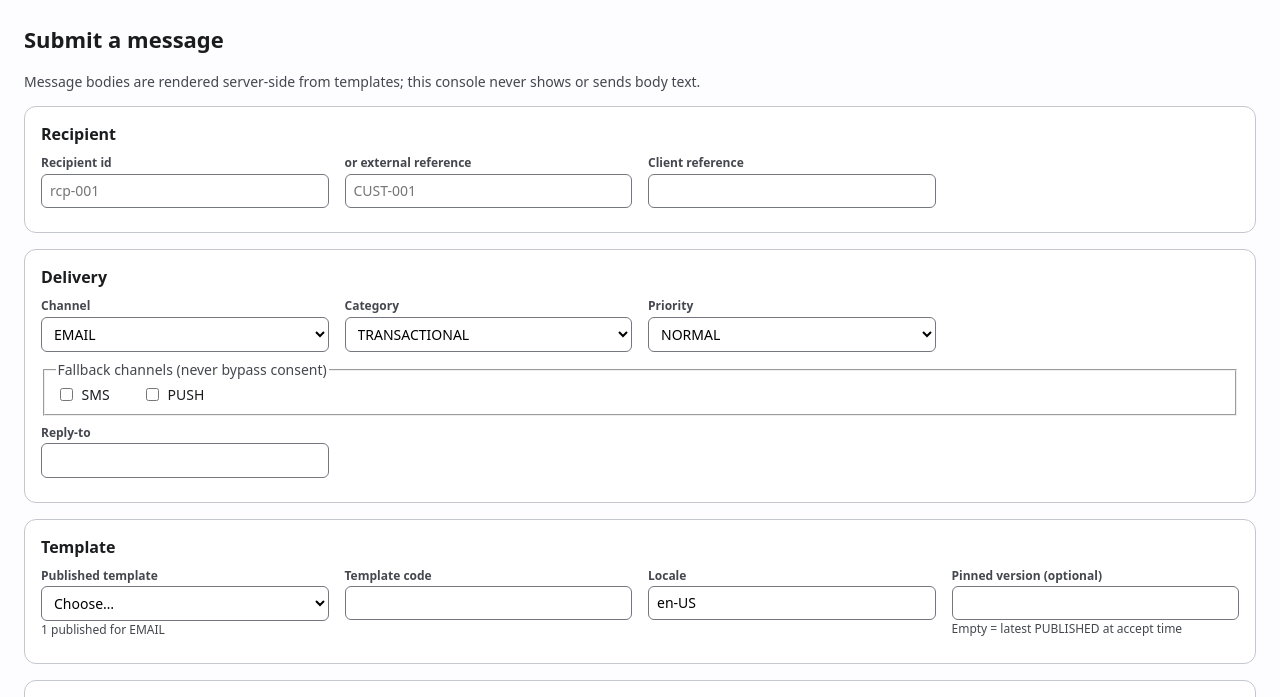
Test: submit message page › switching the channel swaps the channel options and drops a fallback equal to the new primary
Expected: the field labelled "Reply-to" is shown, [41,443,328,478]
Click the checkbox labelled "SMS" at point(66, 395), box [60,388,72,402]
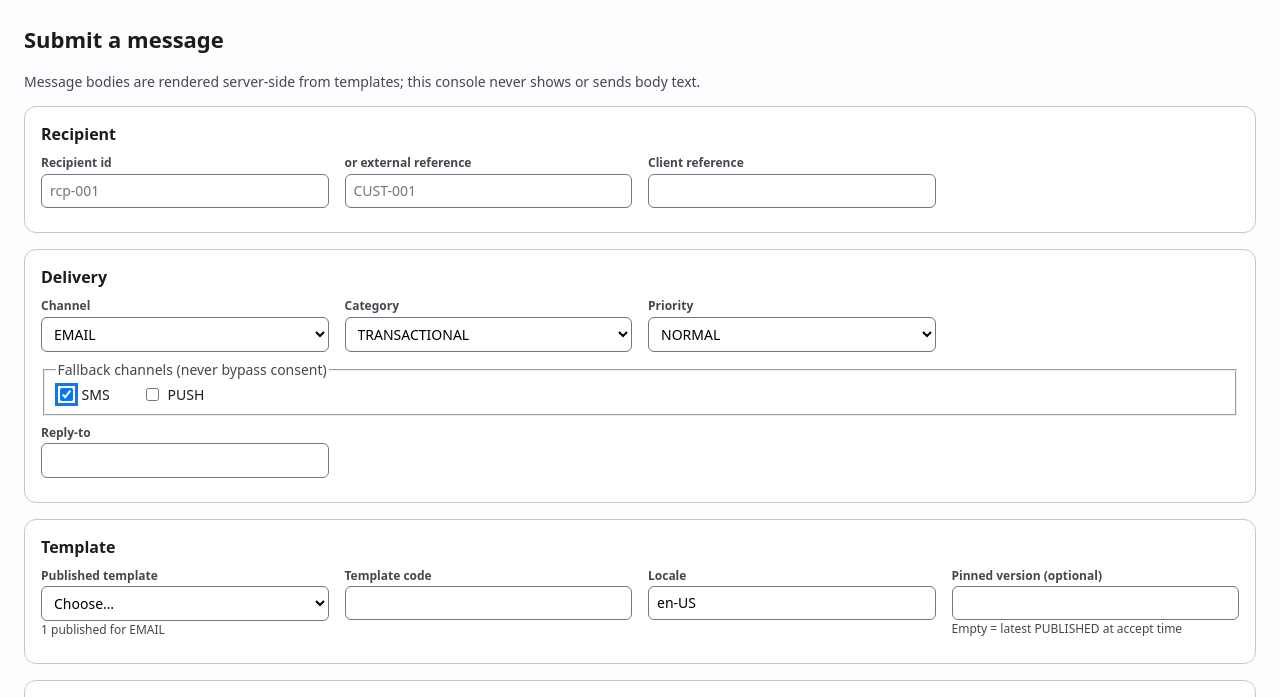
Select "SMS" in the dropdown labelled "Channel" at point(185, 334), box [41,317,328,352]
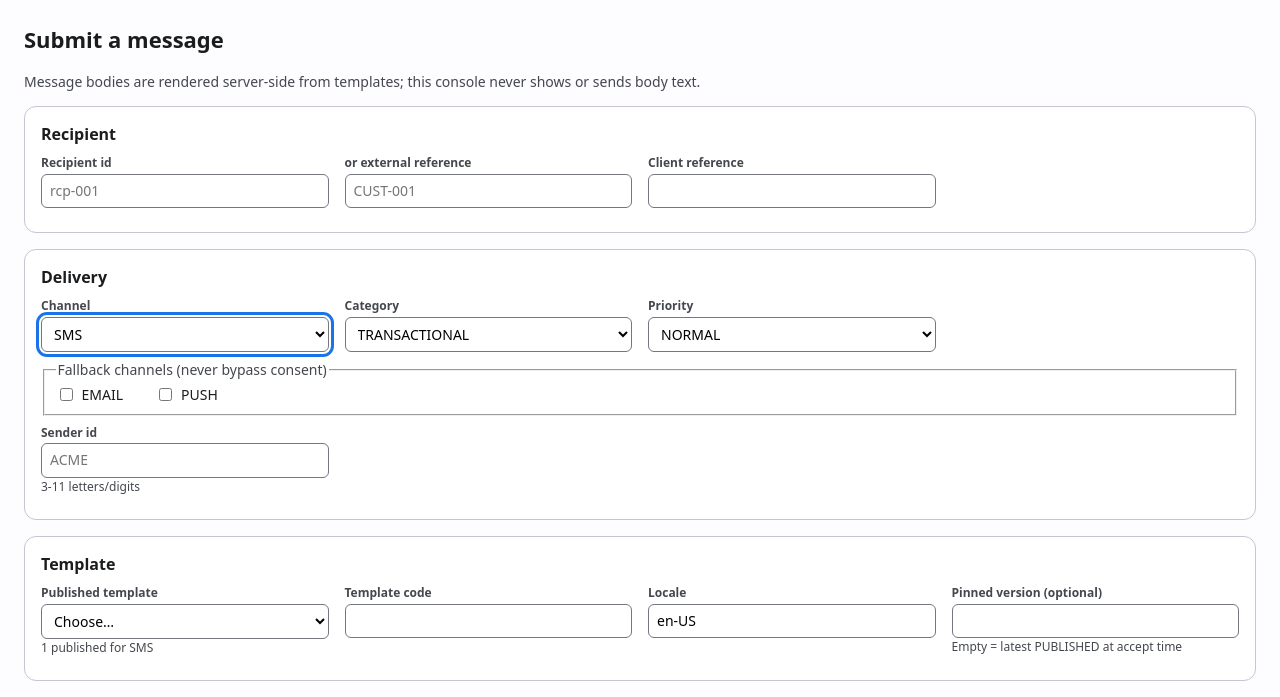
Expected: the field labelled "Sender id" is shown, [41,443,328,478]
Expected: the label labelled "Reply-to" is gone
Select "PUSH" in the dropdown labelled "Channel" at point(185, 334), box [41,317,328,352]
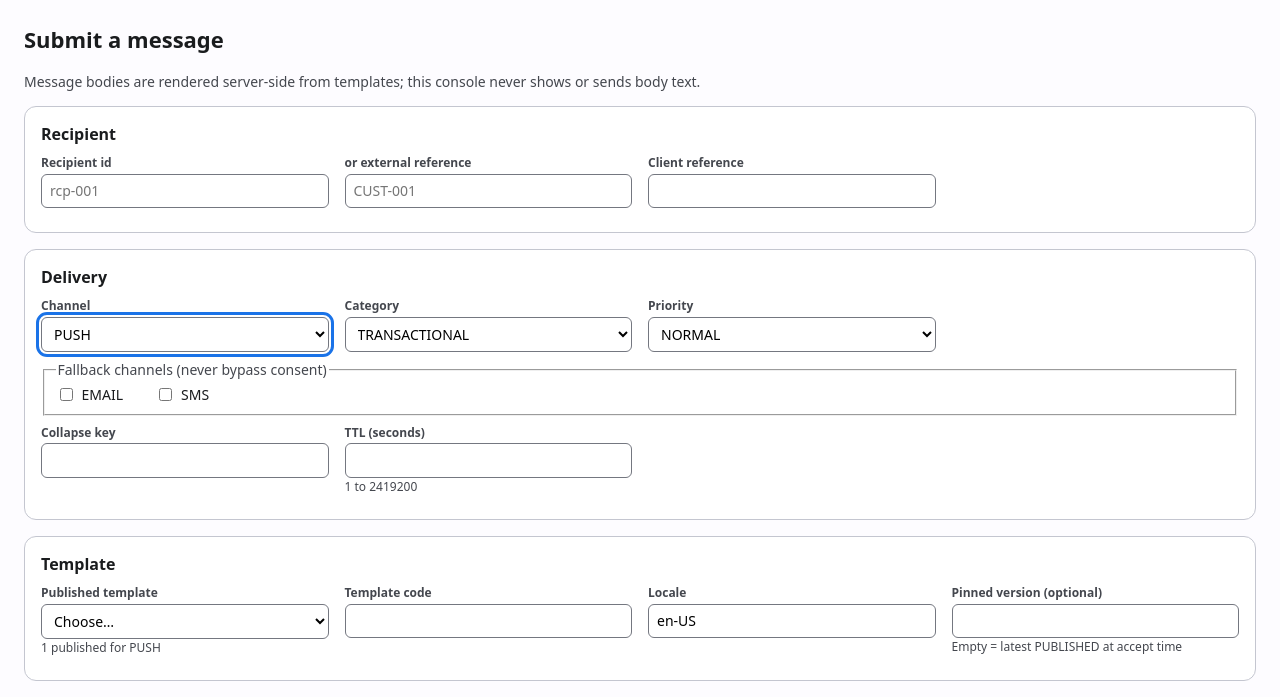
Expected: the number field labelled "TTL (seconds)" is shown, [344,443,632,478]
